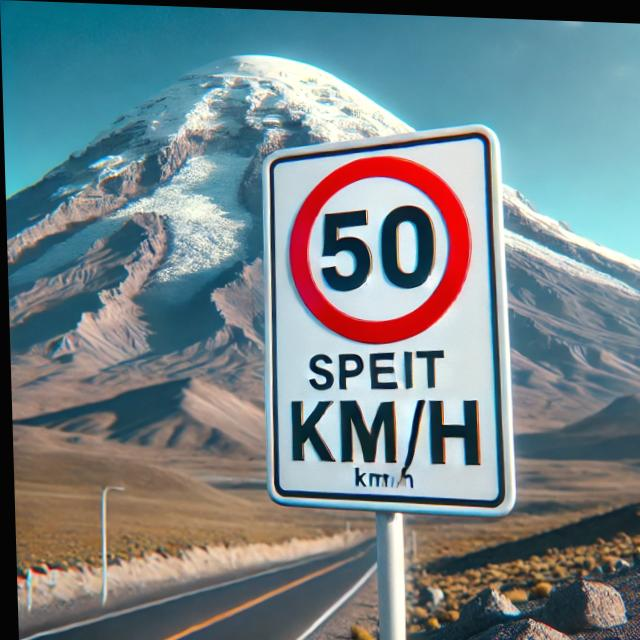Speed limit 50: (284, 148, 475, 345)
